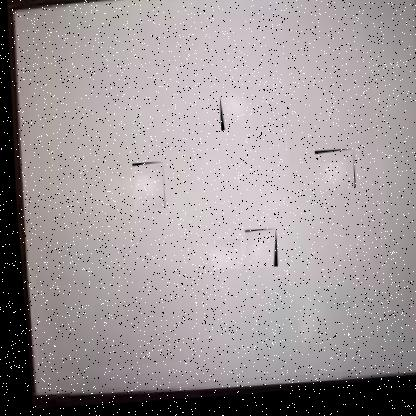spot: (309, 155, 353, 199), (126, 164, 163, 215), (214, 88, 251, 137), (238, 233, 274, 275), (205, 243, 238, 277)
